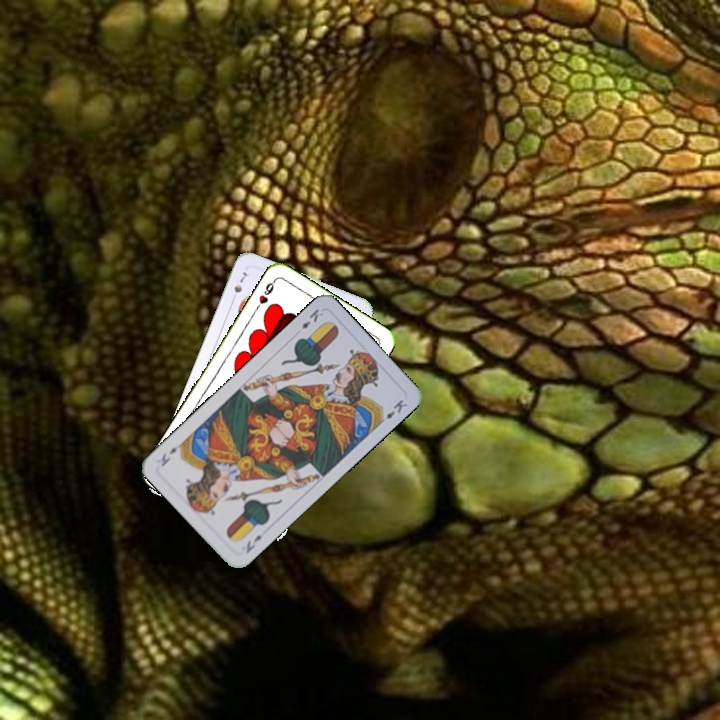EK: (297, 305, 326, 332), (242, 531, 265, 556)
H9: (252, 275, 278, 312)
S7: (228, 267, 249, 305)
